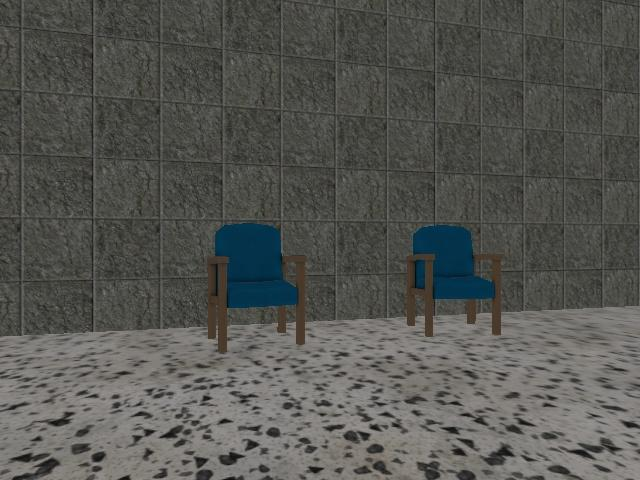chair: (207, 223, 307, 353), (406, 225, 504, 337)
